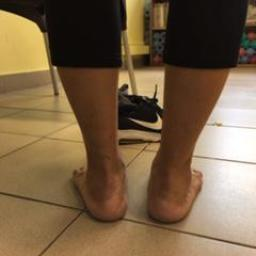Back View -Both Feet-: (64, 131, 215, 235)
